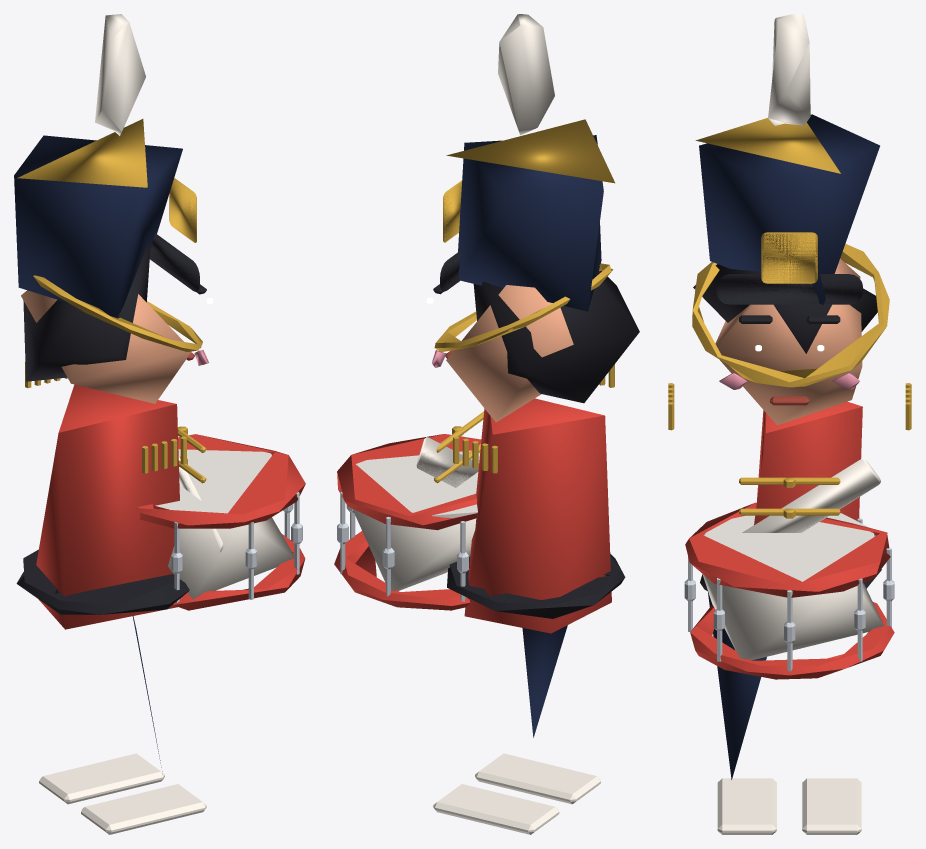
Rendered from drummer.glb.
3 renders of one model, left to right at view 1: azimuth 30°, elevation 25°; view 2: azimuth 150°, elevation 25°; view 3: azimuth 270°, elevation 25°, orthographic.
Visible parts, largest first — view 1: drummer; view 2: drummer; view 3: drummer.
Boxes of the visible parts, x1,y1,x2,y2 form: drummer: (14,14,305,834); drummer: (334,14,639,834); drummer: (668,14,911,834).
Bounding box in the file's own units: 0.6873 × 1.9 × 0.5257.
1 material, 1 textured.
